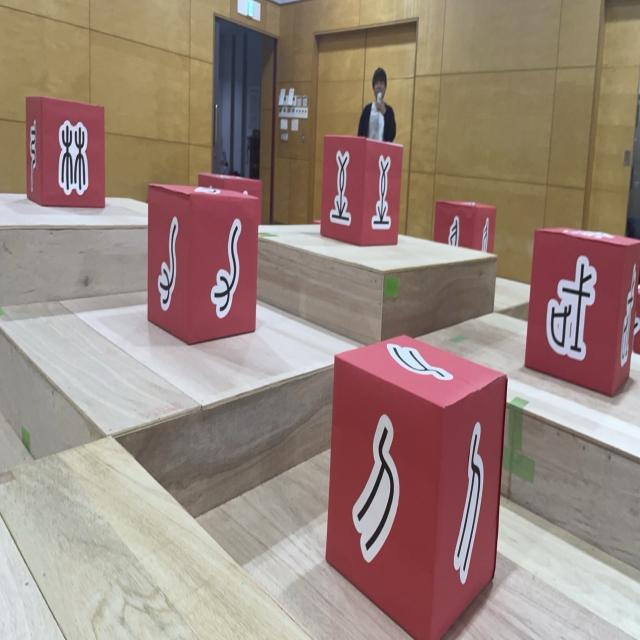10: (352, 413, 401, 566), (452, 422, 484, 585), (386, 343, 454, 382)
11: (447, 215, 459, 246), (481, 217, 489, 251)
13: (211, 217, 242, 321), (157, 216, 179, 312)
2: (56, 118, 90, 199)
4: (30, 119, 37, 193)
5: (545, 253, 597, 362)
7: (329, 150, 352, 228), (371, 154, 393, 231)
fighter: (326, 333, 507, 640), (524, 228, 640, 398), (146, 182, 258, 345), (321, 134, 404, 246), (24, 95, 106, 207), (434, 200, 496, 254), (198, 173, 262, 224)
